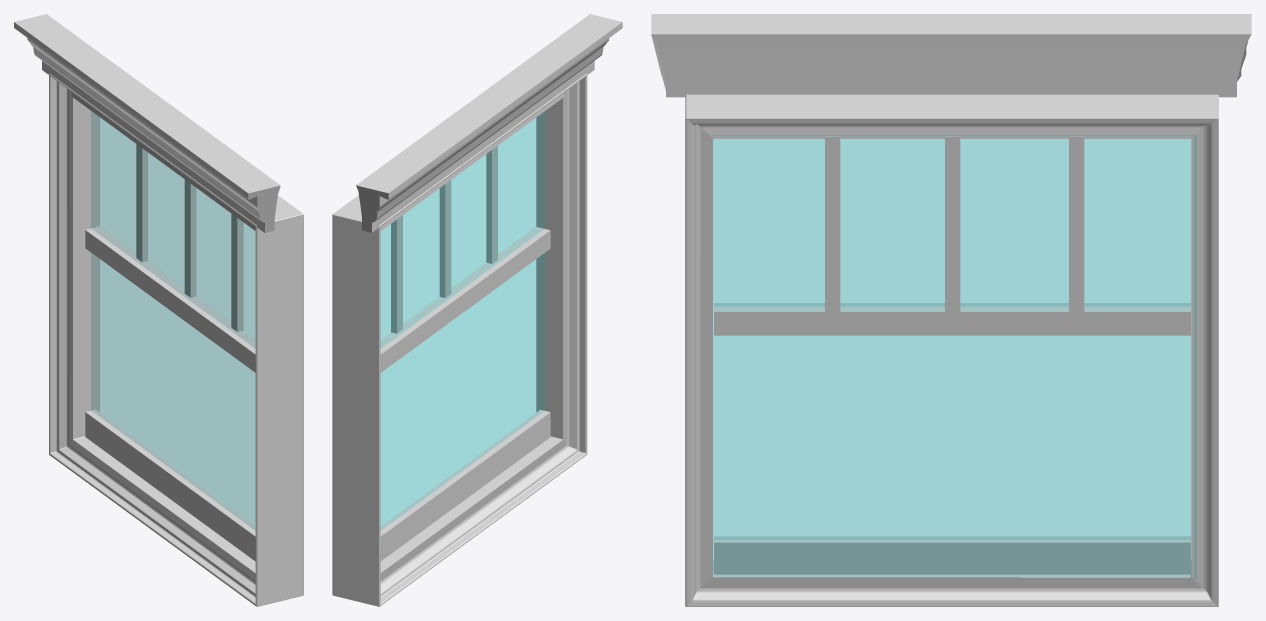
The model's file is WindowFinal.fbx.
The picture shows the model from 3 angles, left to right: view 1: azimuth 30°, elevation 25°; view 2: azimuth 150°, elevation 25°; view 3: azimuth 270°, elevation 25°; orthographic projection. The views are drawn at different scales.
Visible parts, largest first — view 1: polySurface89; view 2: polySurface89; view 3: polySurface89.
Part boxes in pixels (bbox=[...]): polySurface89: bbox=[14, 14, 303, 606]; polySurface89: bbox=[332, 14, 622, 606]; polySurface89: bbox=[651, 14, 1251, 606].
Size of the model in its own units: 0.237 by 1.4 by 1.39.
